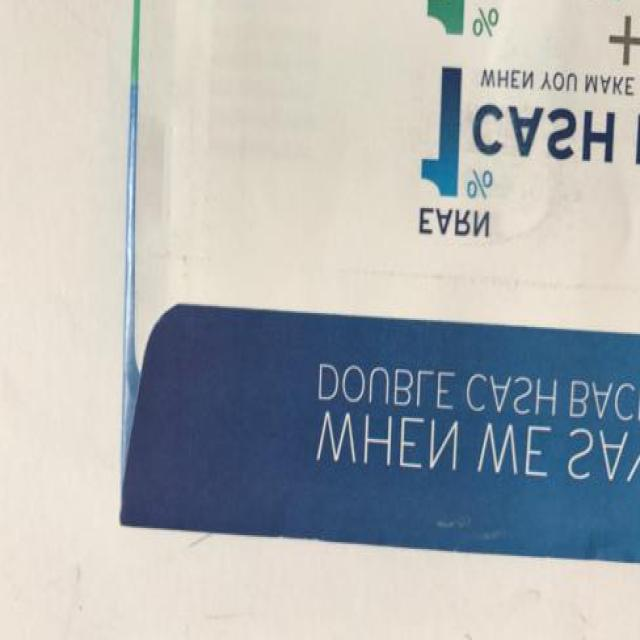kertas: (115, 0, 640, 566)
